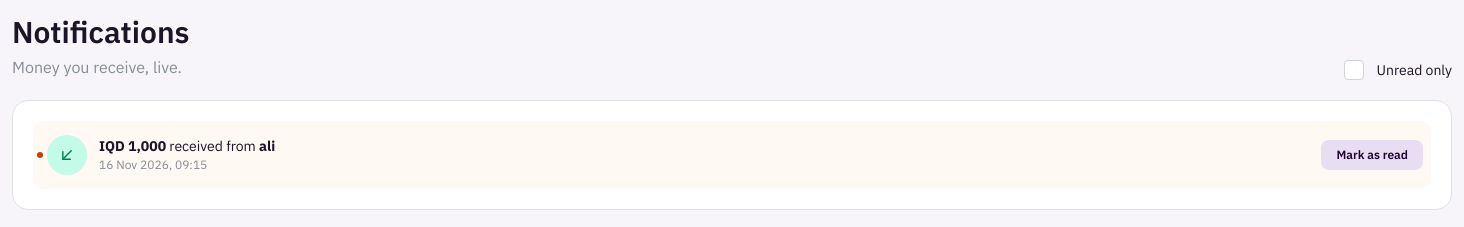
Test case: NotificationsPage › marks a notification as read, and disables the button while the request is in flight
The width and height of the screenshot is (1464, 227).
Later steps or results of the test are not shown.
Click the button "Mark as read" at (1372, 155), box [1321,140,1423,170]
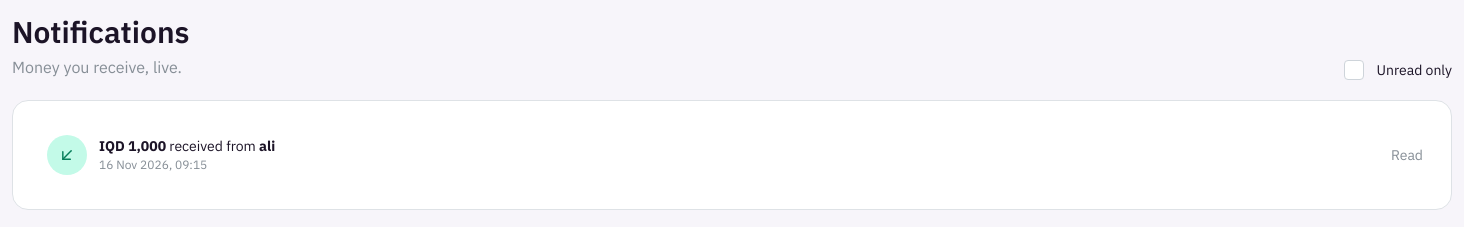
Expected: the text "Read" is shown, [1391,145,1423,165]
Result: the button "Mark as read" is gone
